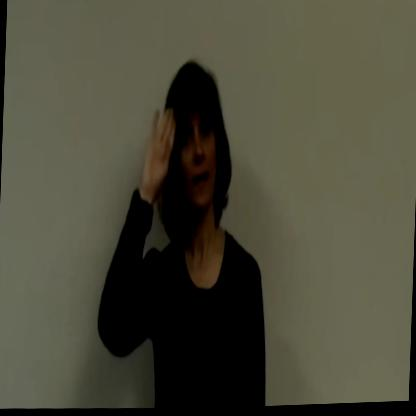Hello: (115, 42, 243, 256)
